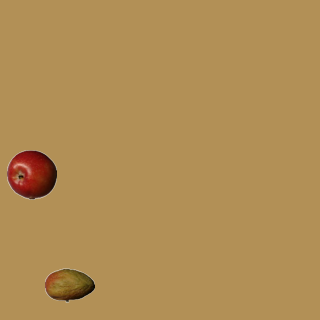Apple Braeburn: (6, 149, 56, 199)
Papaya: (44, 260, 94, 310)
